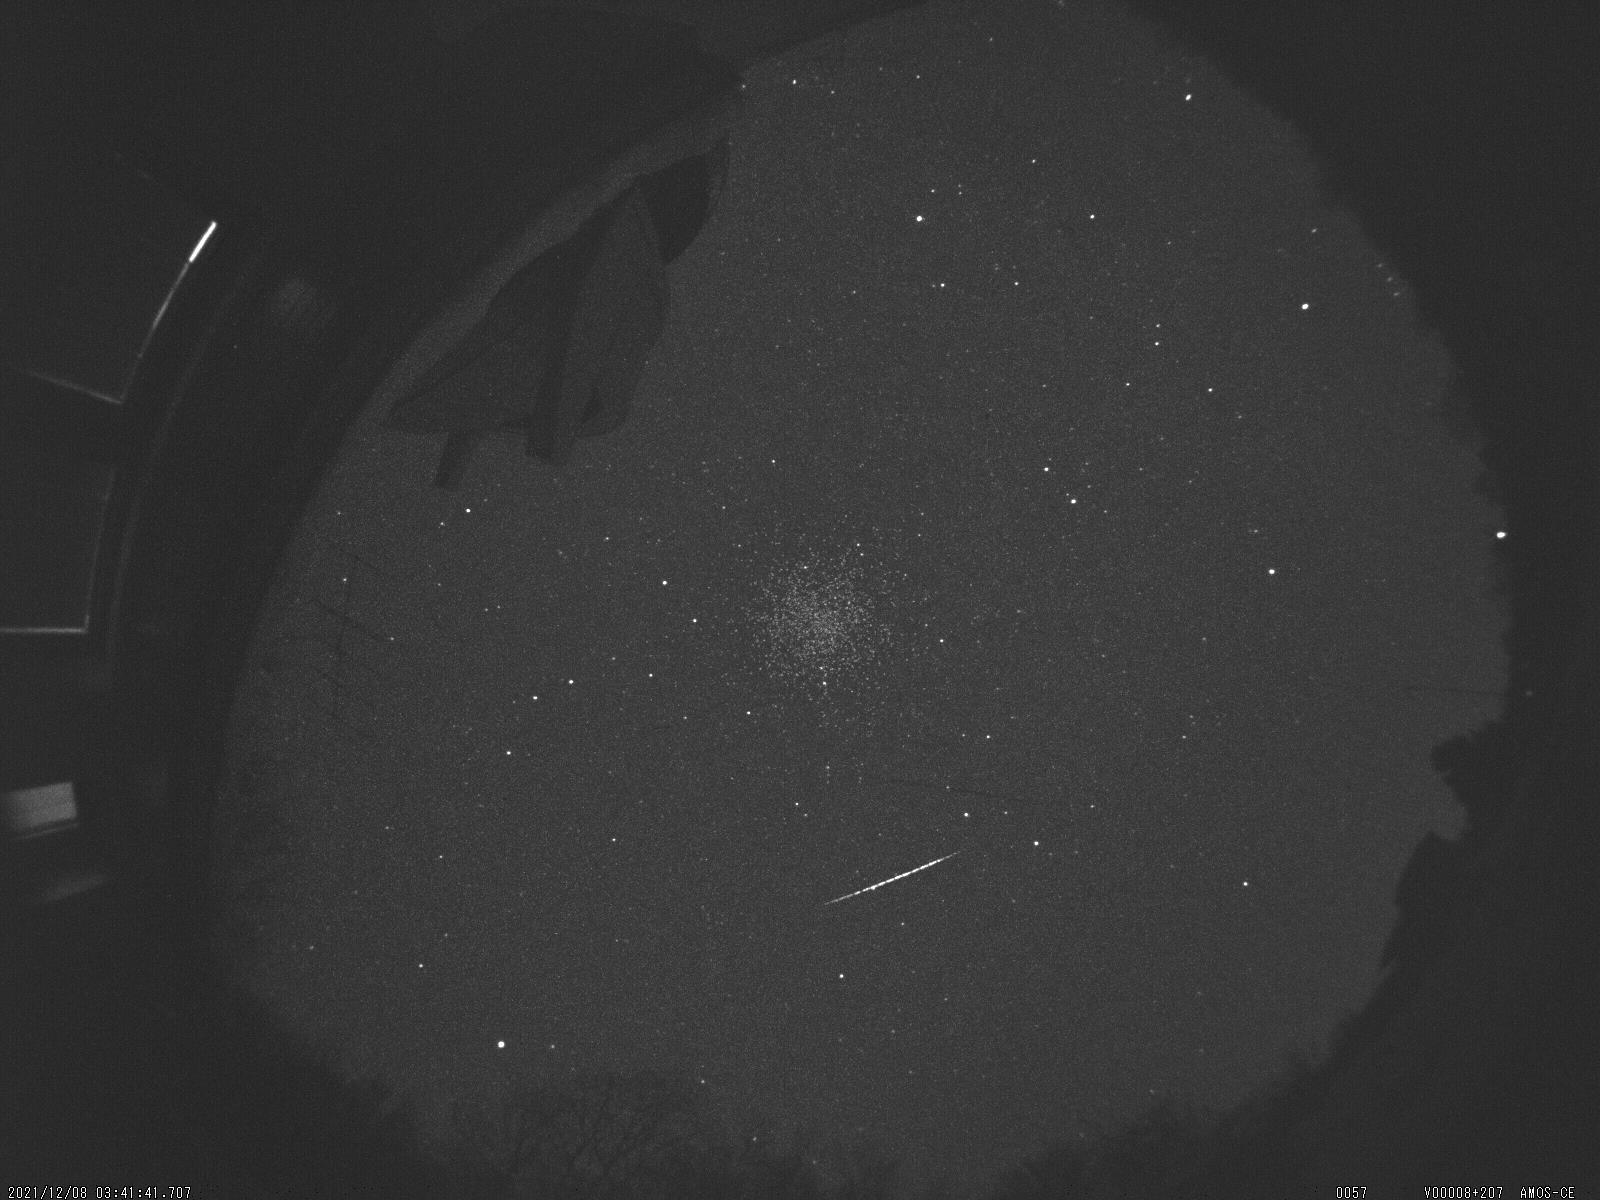Meteor: (815, 837, 970, 918)
